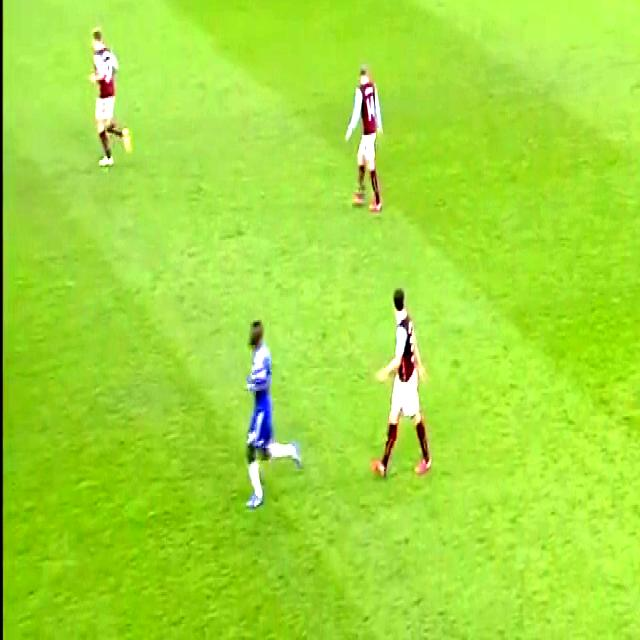soccer-player: (237, 304, 306, 510), (372, 276, 438, 484), (87, 17, 141, 174), (340, 56, 388, 222)
